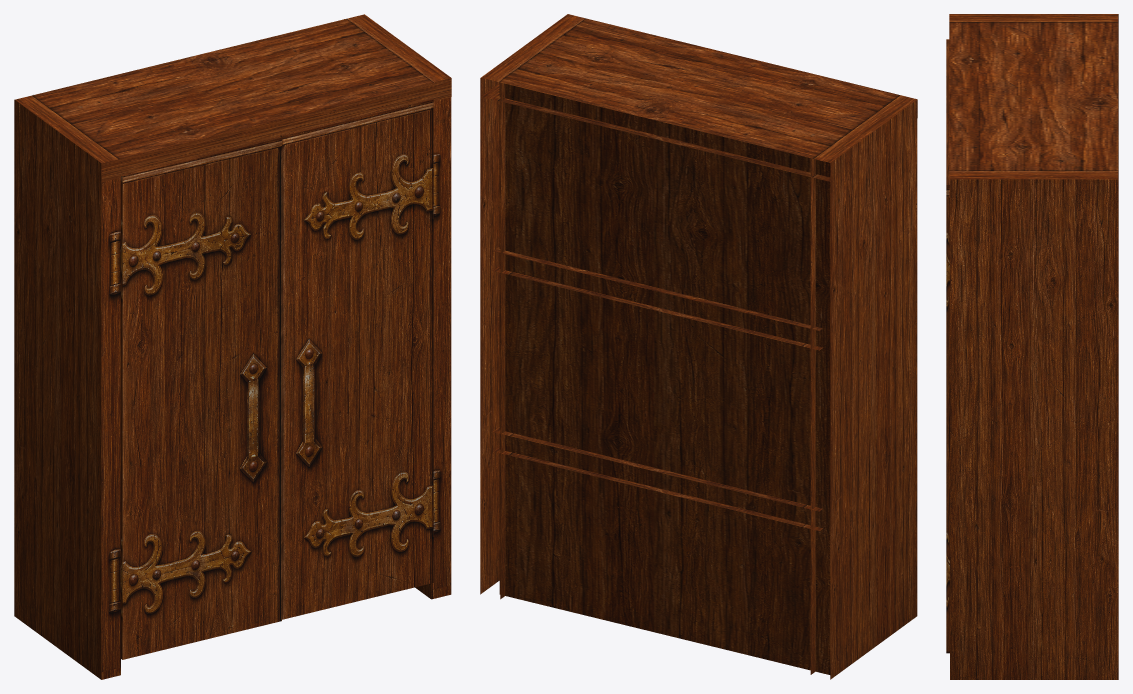
The model's file is mm9_deco_weaponscabinet04.glb.
The picture shows the model from 3 angles, left to right: view 1: azimuth 30°, elevation 25°; view 2: azimuth 150°, elevation 25°; view 3: azimuth 270°, elevation 25°; orthographic projection. The views are drawn at different scales.
Visible parts, largest first — view 1: Weaponscabinet04; view 2: Weaponscabinet04; view 3: Weaponscabinet04.
Part boxes in pixels (x1=…): Weaponscabinet04: x1=14, y1=14, x2=451, y2=679; Weaponscabinet04: x1=480, y1=14, x2=917, y2=679; Weaponscabinet04: x1=946, y1=14, x2=1118, y2=679.
Bounding box in the file's own units: 2.27 × 3.2 × 1.
1 material, 1 textured.
